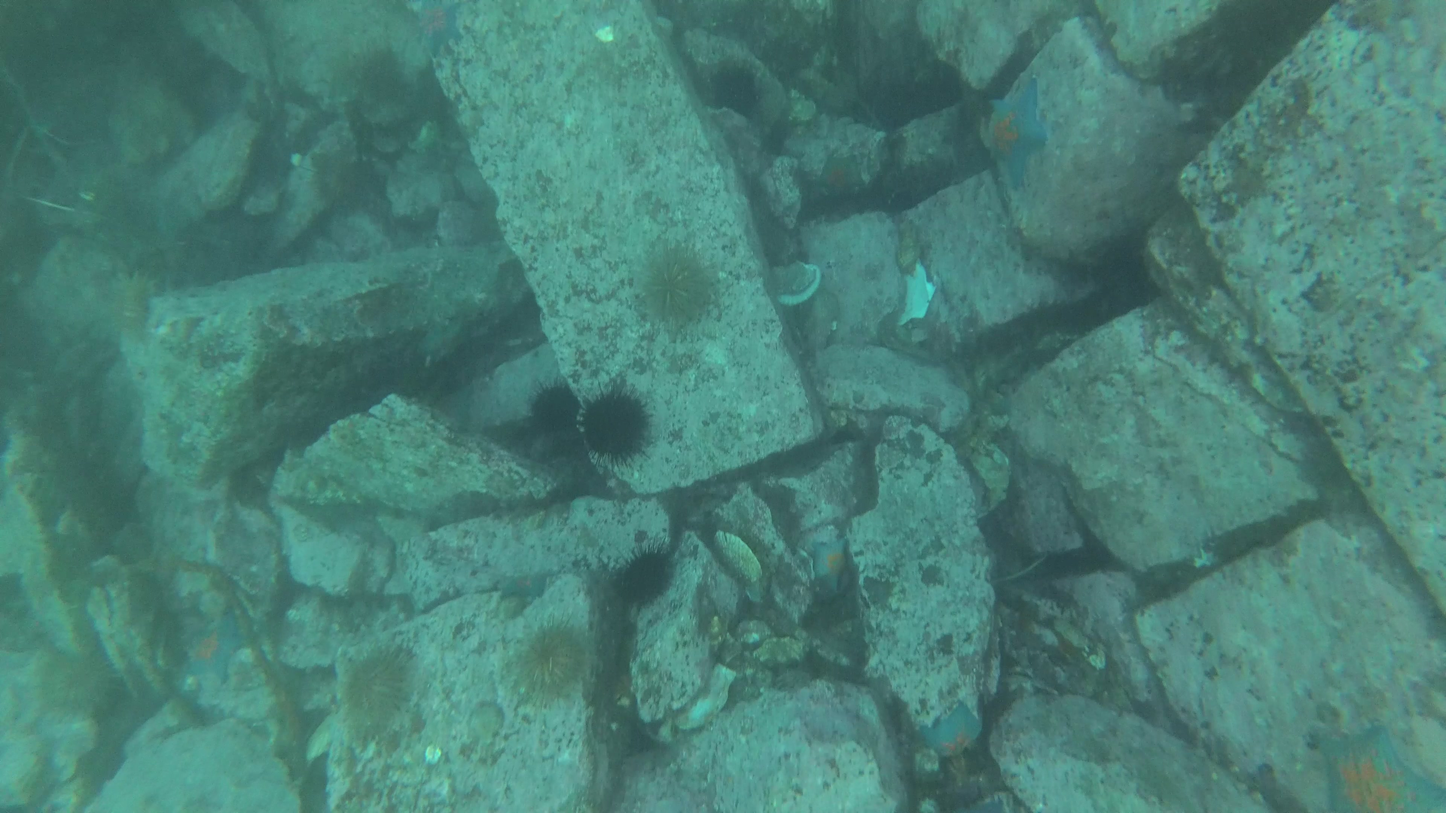holothurian: (1307, 728, 1446, 813), (982, 85, 1057, 188), (174, 617, 245, 683), (924, 707, 982, 755), (812, 528, 853, 595), (413, 11, 469, 56)
starfish: (575, 388, 654, 458), (341, 658, 412, 734), (644, 255, 716, 325), (522, 625, 583, 701), (700, 59, 767, 110), (613, 556, 677, 601), (529, 385, 579, 432)
